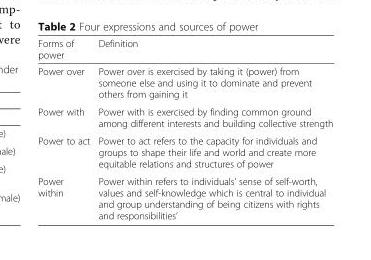table: (37, 37, 332, 220)
table column: (93, 37, 332, 220), (37, 37, 93, 220)
table column header: (37, 37, 332, 62)
table row: (37, 172, 332, 220), (37, 131, 332, 172), (37, 62, 332, 102), (37, 102, 332, 131), (37, 37, 332, 62)
